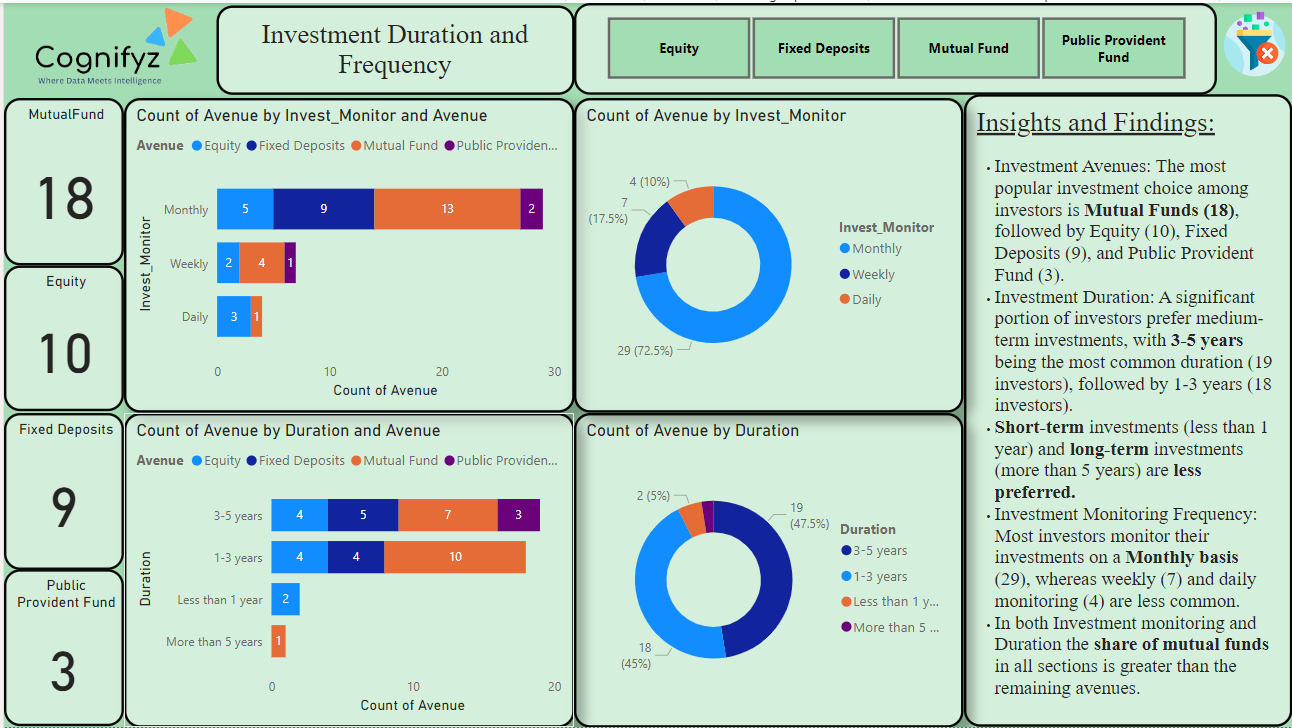

This screenshot's page, from the dashboard's own definition file:
{"tool":"powerbi","page":{"name":"Task 4","canvas":[1280,720],"ordinal":3},"visuals":[{"type":"card","title":"Equity","fields":{"Values":["CountNonNull(Data_set 2.Avenue)"]},"box":[0,261.2,119,144.6],"z":0},{"type":"barChart","fields":{"Category":["Data_set 2.Invest_Monitor"],"Y":["CountNonNull(Data_set 2.Avenue)"],"Series":["Data_set 2.Avenue"]},"box":[119,94.5,447.8,312.5],"z":1000},{"type":"textbox","box":[953.9,91,326.5,628.6],"z":2000},{"type":"card","title":"Fixed Deposits","fields":{"Values":["CountNonNull(Data_set 2.Avenue)"]},"box":[0,407,119,156.3],"z":3000},{"type":"card","title":"MutualFund","fields":{"Values":["CountNonNull(Data_set 2.Avenue)"]},"box":[0,94.5,119,166.8],"z":4000},{"type":"card","title":"Public Provident Fund","fields":{"Values":["CountNonNull(Data_set 2.Avenue)"]},"box":[0,563.3,119,156.3],"z":5000},{"type":"donutChart","fields":{"Category":["Data_set 2.Duration"],"Y":["CountNonNull(Data_set 2.Avenue)"]},"box":[566.8,407,387.2,312.5],"z":6000},{"type":"barChart","fields":{"Category":["Data_set 2.Duration"],"Y":["CountNonNull(Data_set 2.Avenue)"],"Series":["Data_set 2.Avenue"]},"box":[119,407,447.8,312.5],"z":7000},{"type":"donutChart","fields":{"Category":["Data_set 2.Invest_Monitor"],"Y":["CountNonNull(Data_set 2.Avenue)"]},"box":[566.8,94.5,387.2,312.5],"z":8000},{"type":"slicer","fields":{"Values":["Data_set 2.Avenue"]},"box":[566.8,0,639.1,91],"z":9000},{"type":"textbox","box":[211.1,2.3,355.7,88.6],"z":10000},{"type":"image","box":[0,0,211.1,91],"z":11000},{"type":"image","box":[1206.3,2.8,74,76.8],"z":12000}]}

Visuals, with their boxes in screenshot pixels (x1, y1, x2, y2), scaled from the page's 1280x720 canvas onto the 1292x728 screenshot:
"Equity" card: (0,264,120,410)
barChart - Data_set 2.Invest_Monitor x CountNonNull(Data_set 2.Avenue): (120,96,572,412)
textbox: (963,92,1291,727)
"Fixed Deposits" card: (0,412,120,570)
"MutualFund" card: (0,96,120,264)
"Public Provident Fund" card: (0,570,120,727)
donutChart - Data_set 2.Duration x CountNonNull(Data_set 2.Avenue): (572,412,963,727)
barChart - Data_set 2.Duration x CountNonNull(Data_set 2.Avenue): (120,412,572,727)
donutChart - Data_set 2.Invest_Monitor x CountNonNull(Data_set 2.Avenue): (572,96,963,412)
slicer - Data_set 2.Avenue: (572,0,1217,92)
textbox: (213,2,572,92)
image: (0,0,213,92)
image: (1218,3,1291,80)
